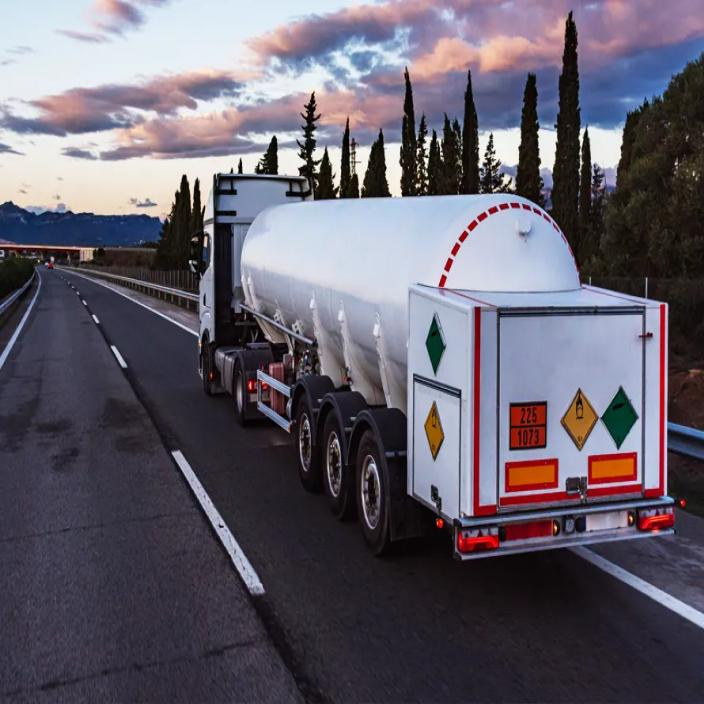building map: (602, 386, 638, 447), (426, 313, 445, 374)
defibrillator: (562, 388, 598, 450), (424, 401, 444, 460)
